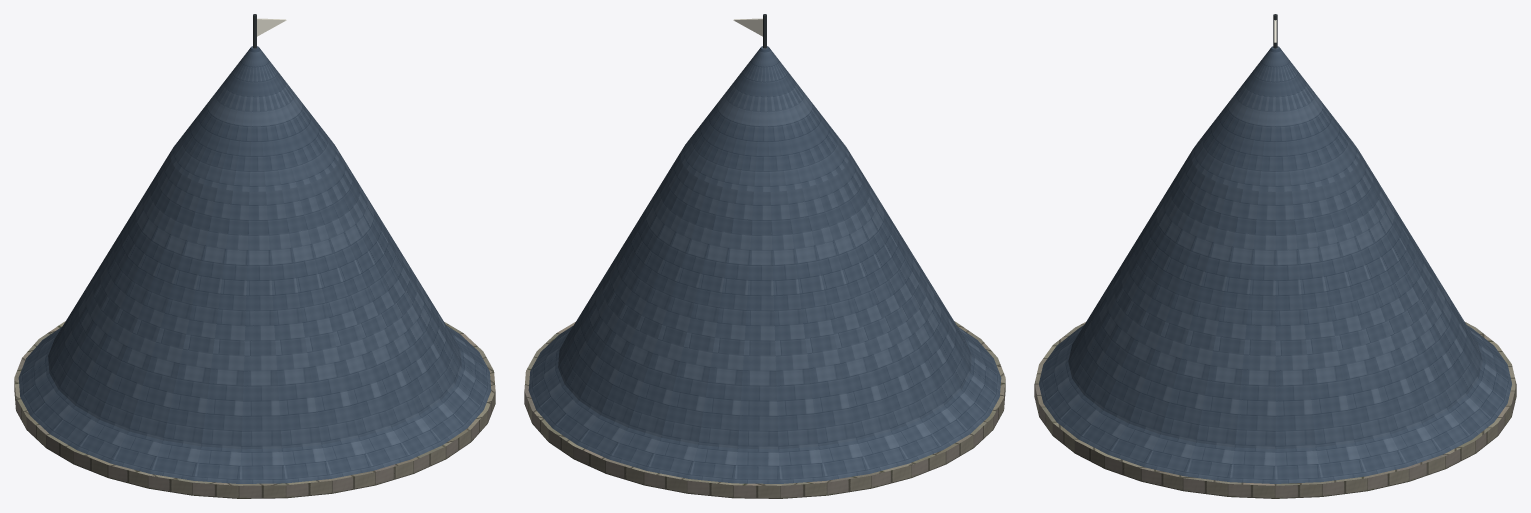
Rendered from Furn_Roof_Cone.fbx.
3 views of the same model, side by side, from view 1: azimuth 30°, elevation 25°; view 2: azimuth 150°, elevation 25°; view 3: azimuth 270°, elevation 25° (orthographic).
Parts seen in each view (by area): view 1: Furn_Roof_Cone_Mesh; view 2: Furn_Roof_Cone_Mesh; view 3: Furn_Roof_Cone_Mesh.
Part boxes in pixels (left/top/right/bottom): Furn_Roof_Cone_Mesh: left=14, top=14, right=495, bottom=498; Furn_Roof_Cone_Mesh: left=524, top=14, right=1005, bottom=498; Furn_Roof_Cone_Mesh: left=1034, top=14, right=1516, bottom=498.
Size of the model in its own units: 8 by 7 by 8.
